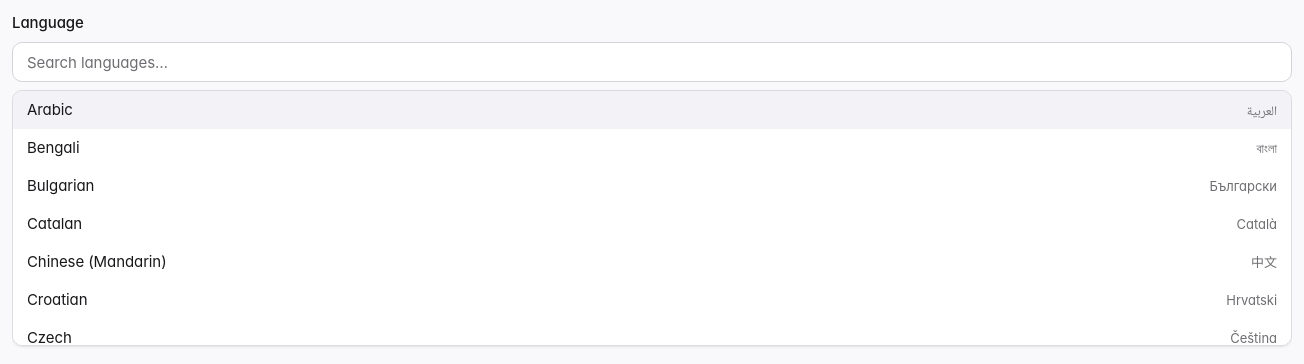
Test: LanguageCombobox › filters by endonym (native name)
The image size is (1304, 364).
Type "עברית" into the dropdown. click: coordinates (652, 62)
box: left=12, top=42, right=1292, bottom=82
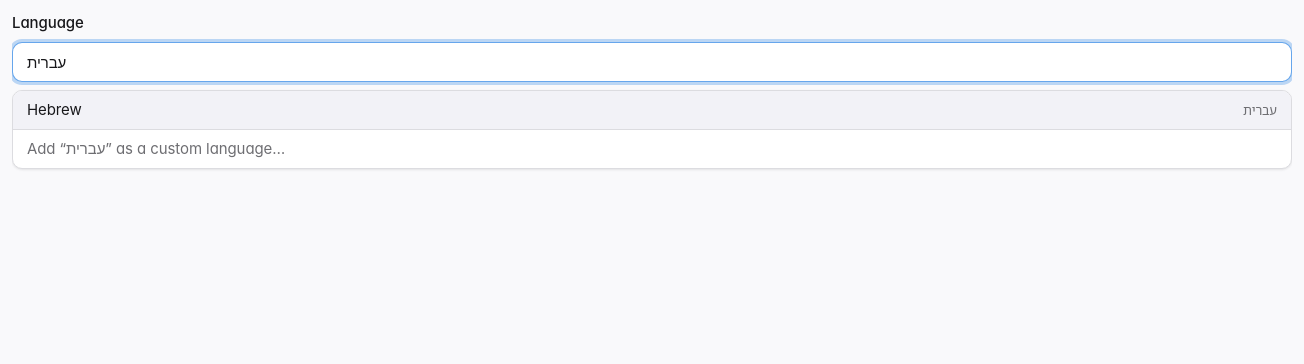
Check: the text "Hebrew" is shown, box left=27, top=99, right=82, bottom=121
Check: the number of options is 2, box left=13, top=91, right=1291, bottom=129; left=13, top=129, right=1291, bottom=168
